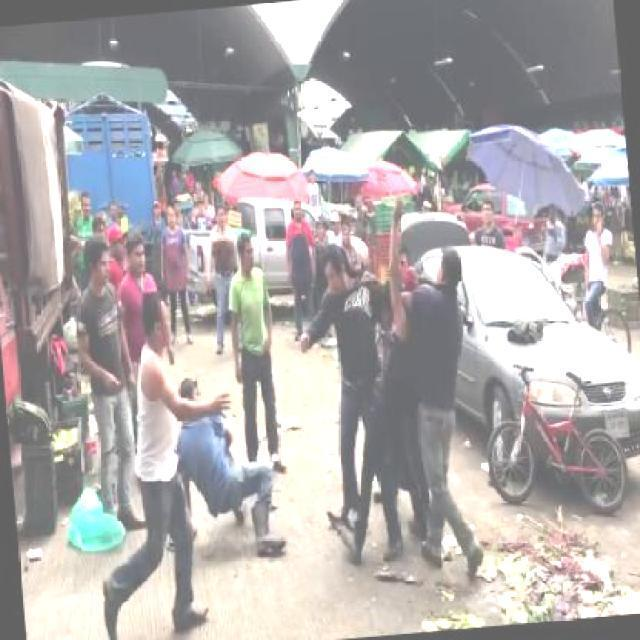fight: (286, 245, 414, 572)
non-fight: (116, 285, 210, 630), (178, 368, 287, 561), (222, 228, 286, 467)
